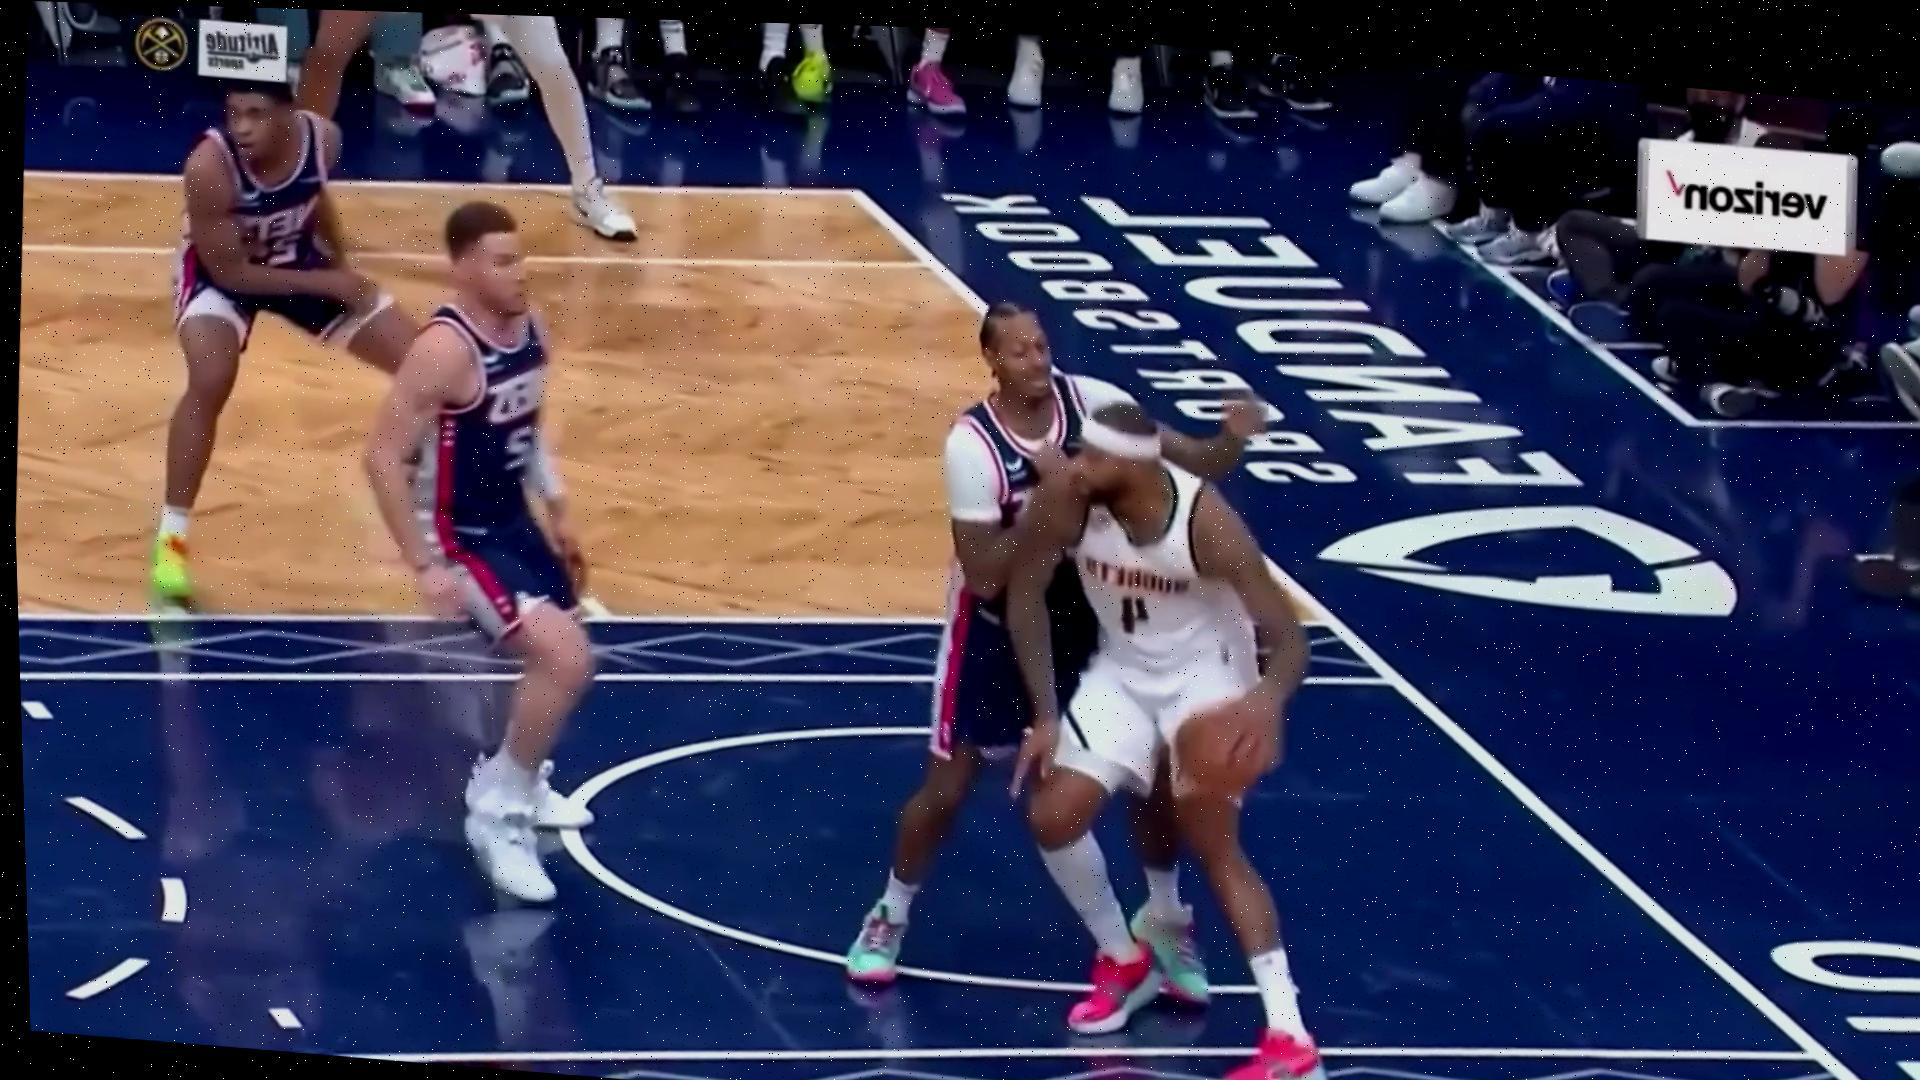foul: (785, 265, 1425, 1080)
